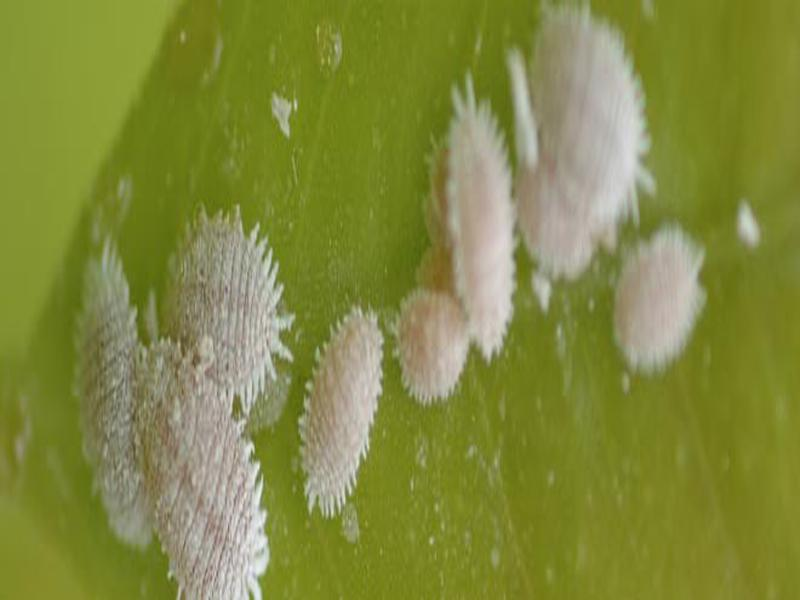Mealy_bug: (70, 230, 393, 587), (438, 14, 652, 358)
